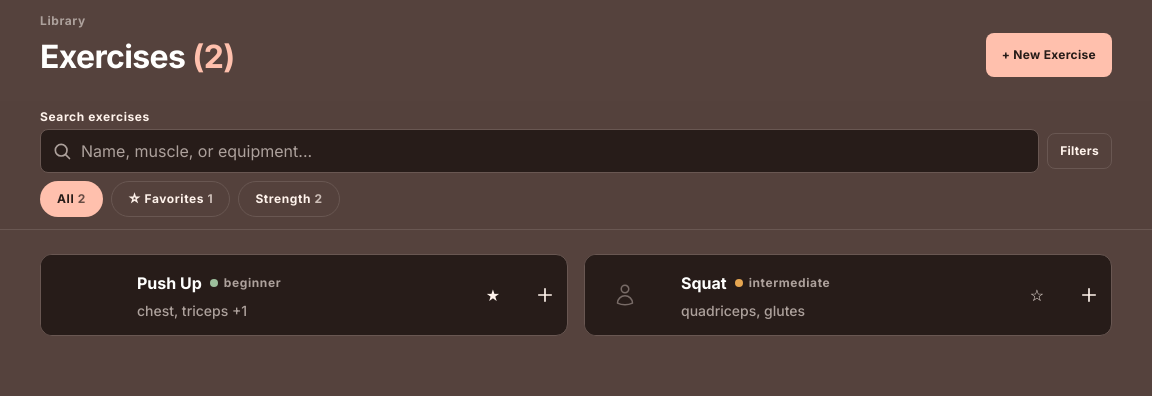
Scenario: ExercisesPage filter dropdowns › shows all filter dropdowns including Level once Filters is opened
Secondary filters live in the collapsible Filters panel
What coordinates should you click on to do the following:
click the button "Filters"
I would click on:
 (1080, 151)
Its box is [1047,133,1112,169].
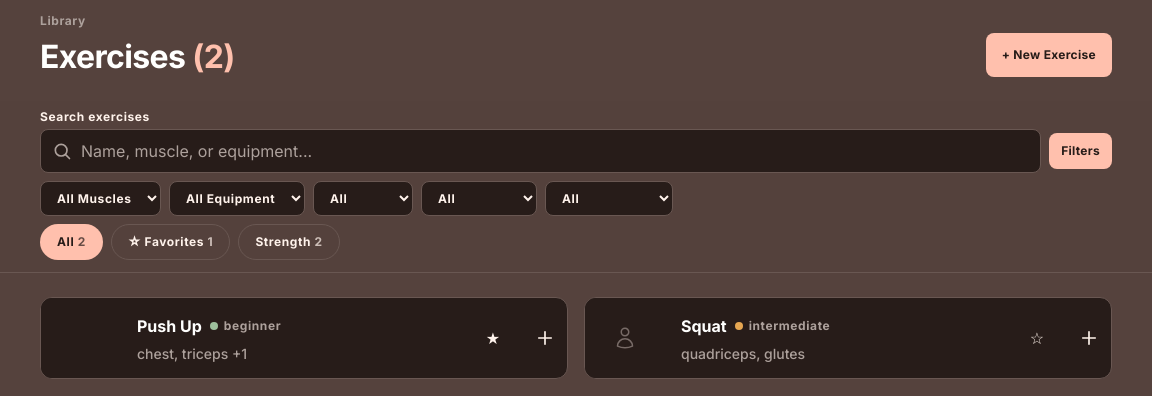
Now the dropdown named "Muscle" is shown, box [40,181,161,216]
Now the dropdown named "Equipment" is shown, box [169,181,305,216]
Now the dropdown named "Force" is shown, box [313,181,413,216]
